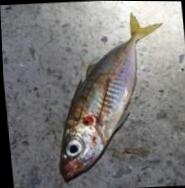fish: (57, 9, 163, 182)
